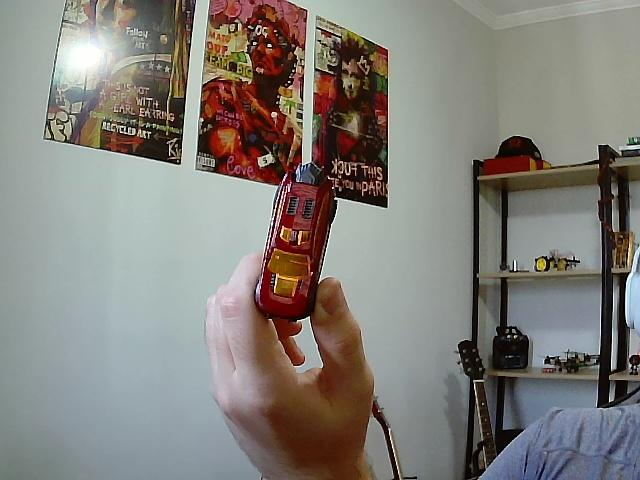Carro: (256, 165, 336, 325)
